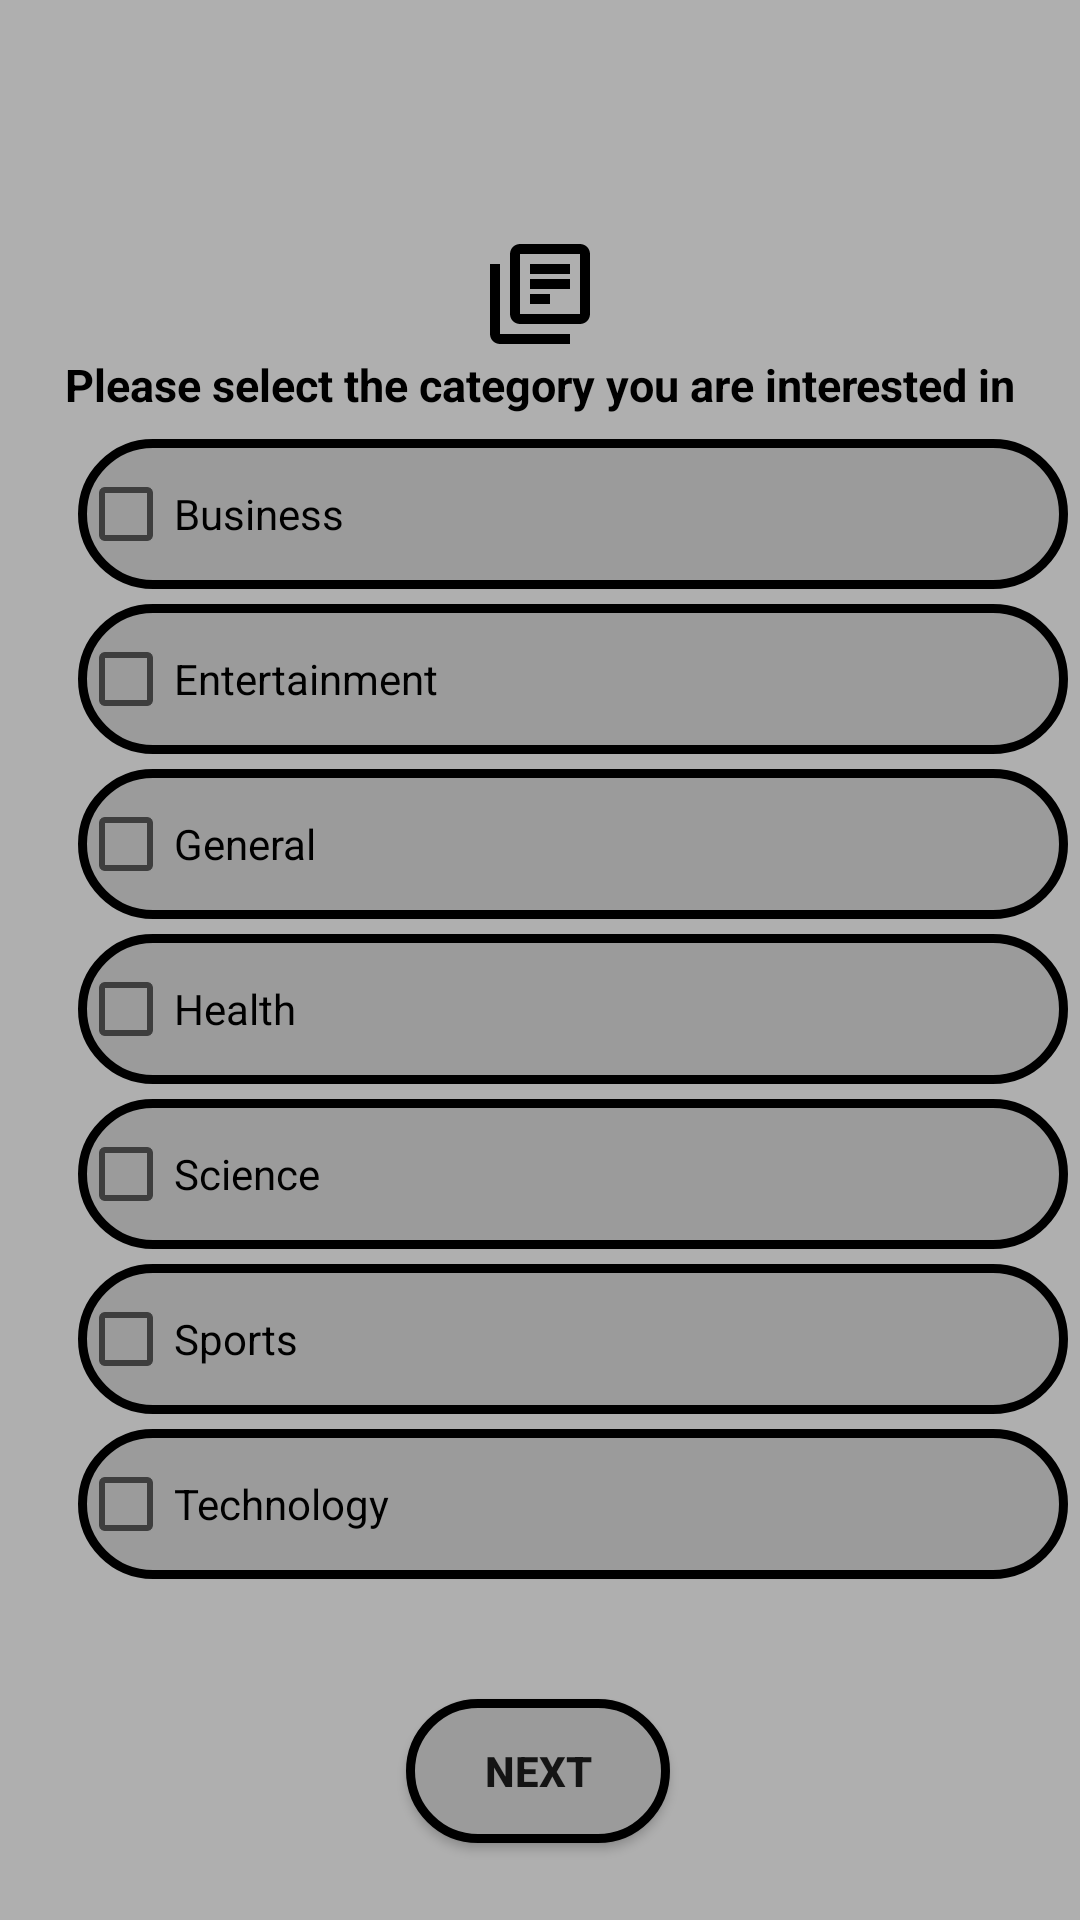

Point at icon controls on the screen. Image size 1080w x 1920h, points as (x=x, y=y).
library books: (x=540, y=294)
